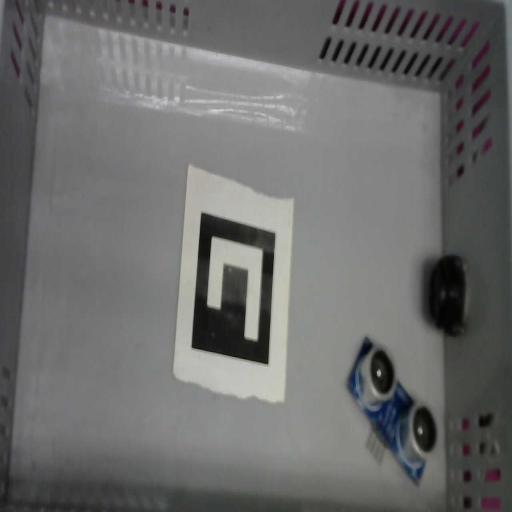QR: (173, 164, 294, 405)
ultrasonic_hc-sr04: (347, 335, 438, 488)
